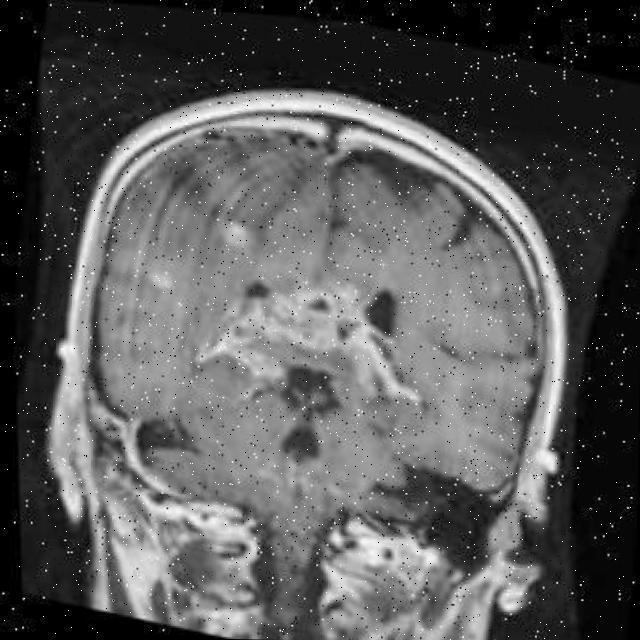LMCI: (234, 292, 400, 480)
